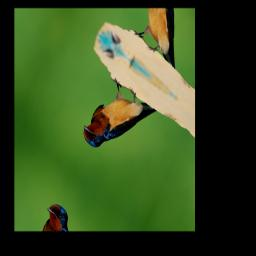Swallow: (78, 68, 159, 177)
